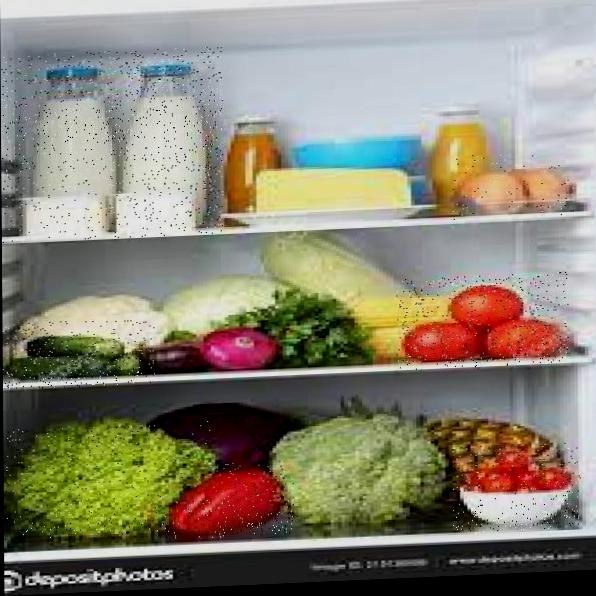broccoli: (3, 421, 215, 540)
courgettes: (2, 316, 155, 390)
eggs: (452, 145, 577, 220)
milk: (1, 50, 126, 243), (125, 46, 224, 238)
peppers: (161, 461, 294, 541)
tomatoes: (395, 272, 569, 370), (451, 441, 581, 533)
